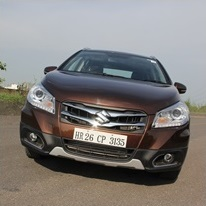HR26CP3135: (72, 127, 127, 149)
